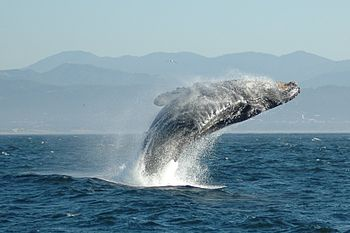humpback: (143, 79, 301, 175)
